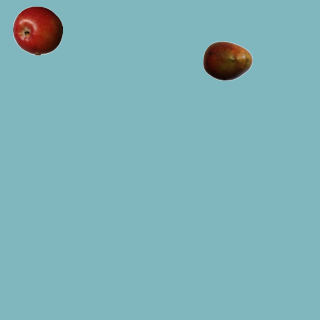Apple Braeburn: (12, 5, 62, 55)
Mango Red: (202, 35, 252, 85)
